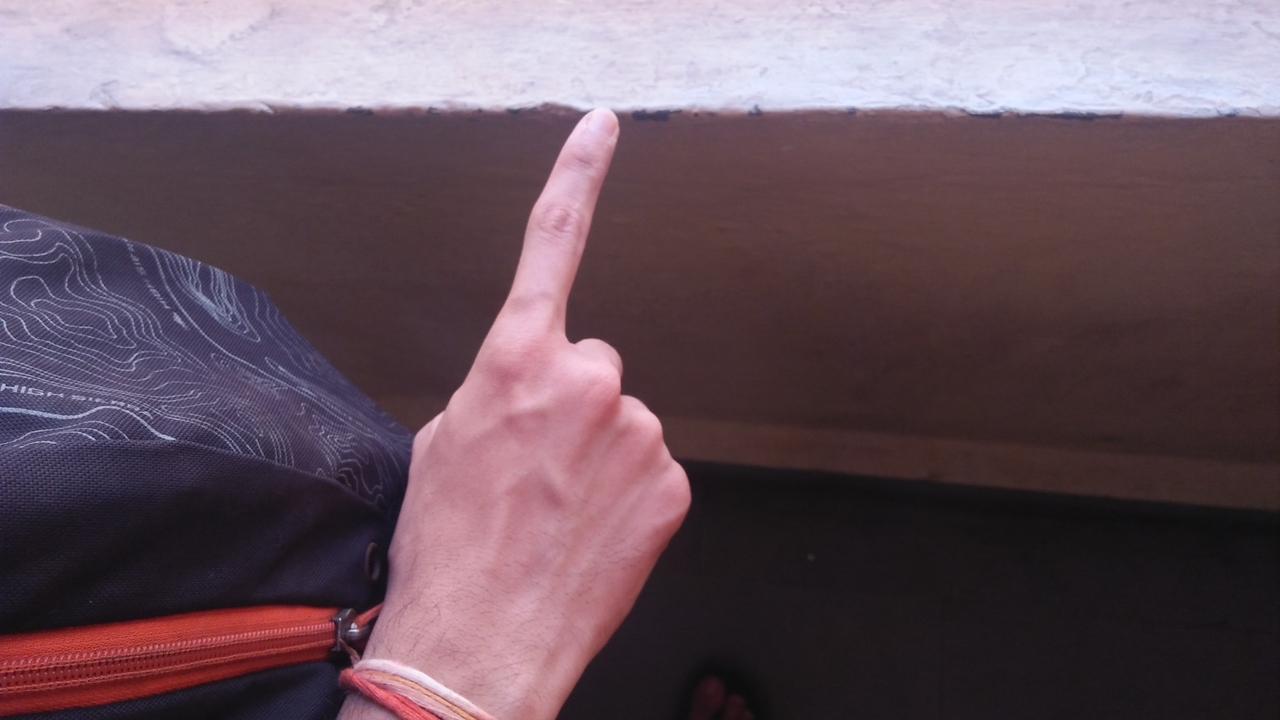fingertip: (567, 100, 623, 156)
